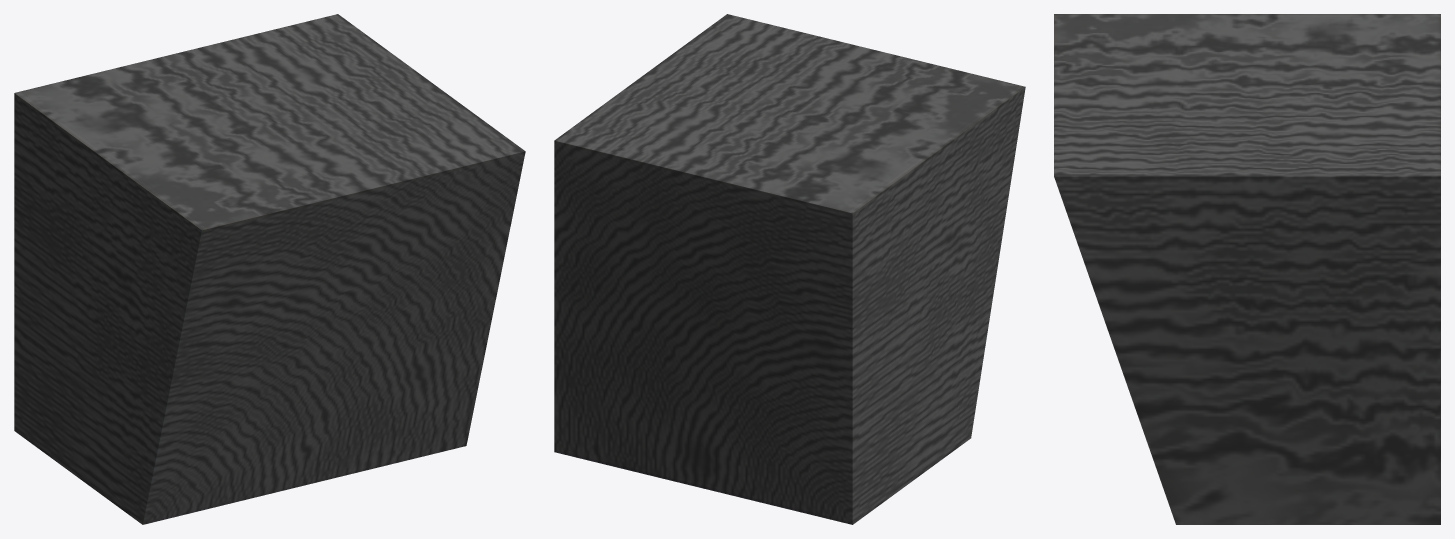
The picture shows the model from 3 angles, left to right: view 1: azimuth 30°, elevation 25°; view 2: azimuth 150°, elevation 25°; view 3: azimuth 270°, elevation 25°; orthographic projection. The views are drawn at different scales.
Parts seen in each view (by area): view 1: 5; view 2: 5; view 3: 5.
Part boxes in pixels (x1,y1,x2,y2): 5: (14, 14, 525, 524); 5: (554, 14, 1025, 524); 5: (1054, 14, 1440, 524).
Size of the model in its own units: 2 by 1.99 by 2.01.
1 material, 1 textured.
